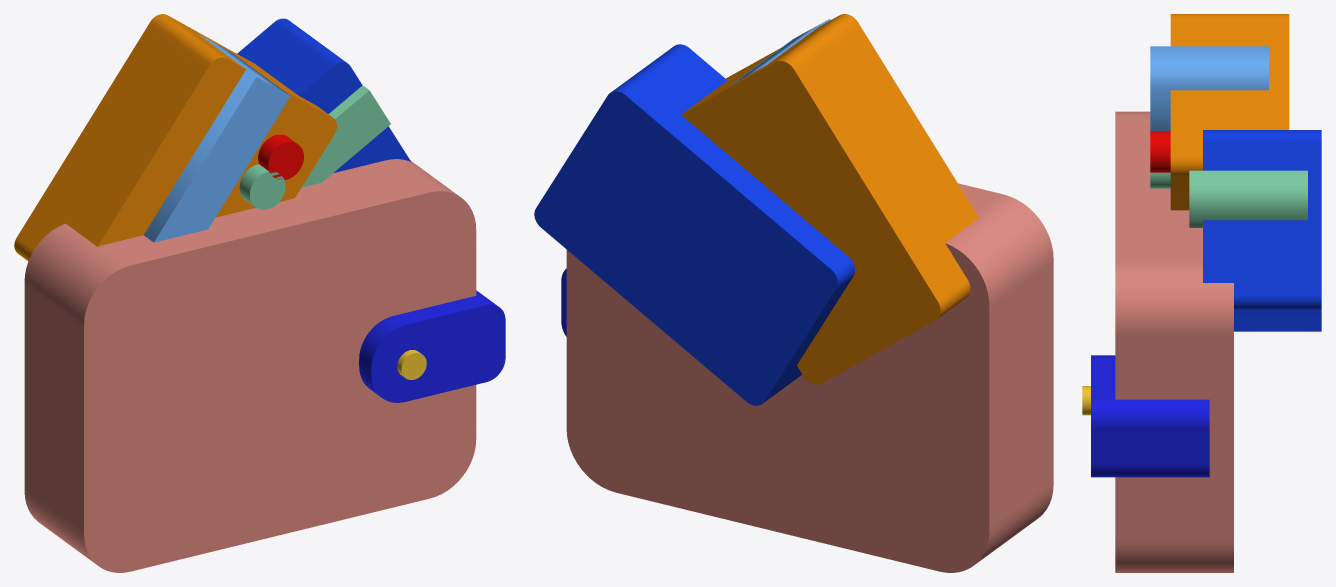
File: wallet.glb
3 views of the same model, side by side, from view 1: azimuth 30°, elevation 25°; view 2: azimuth 150°, elevation 25°; view 3: azimuth 270°, elevation 25° (orthographic). The views are drawn at different scales.
Parts seen in each view (by area): view 1: Shape_93_, Shape_94_, Shape_92_, Stripe_1_, Shape_95_, Stripe_2_, Right_57_, Left_60_, Button_2_; view 2: Shape_93_, Shape_95_, Shape_94_; view 3: Shape_93_, Shape_95_, Shape_94_, Shape_92_, Stripe_1_, Stripe_2_, Right_57_, Left_60_.
Boxes of the visible parts, box(x1,y1,x2,y2) form: Shape_93_: box(24, 159, 476, 572); Shape_94_: box(14, 14, 336, 261); Shape_92_: box(359, 290, 505, 402); Stripe_1_: box(144, 33, 290, 242); Shape_95_: box(237, 18, 410, 172); Stripe_2_: box(302, 85, 390, 187); Right_57_: box(258, 134, 303, 179); Left_60_: box(239, 164, 285, 209); Button_2_: box(397, 350, 426, 379); Shape_93_: box(566, 183, 1053, 572); Shape_95_: box(534, 44, 854, 405); Shape_94_: box(681, 14, 978, 384); Shape_93_: box(1115, 111, 1233, 572); Shape_95_: box(1203, 130, 1321, 331); Shape_94_: box(1170, 14, 1289, 210); Shape_92_: box(1091, 355, 1209, 477); Stripe_1_: box(1150, 46, 1268, 131); Stripe_2_: box(1189, 170, 1307, 227); Right_57_: box(1150, 131, 1170, 172); Left_60_: box(1150, 172, 1170, 188).
Size of the model in its own units: 2.43 by 2.64 by 1.23.
